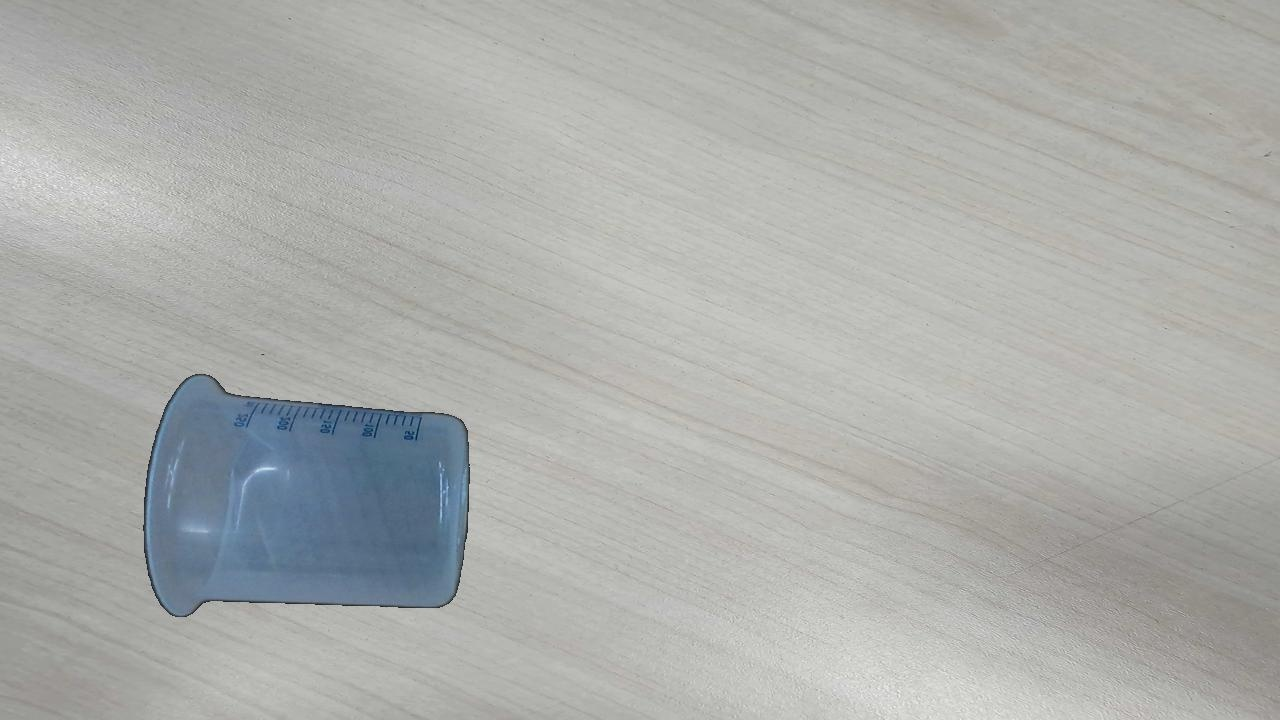becker: (143, 375, 469, 619)
